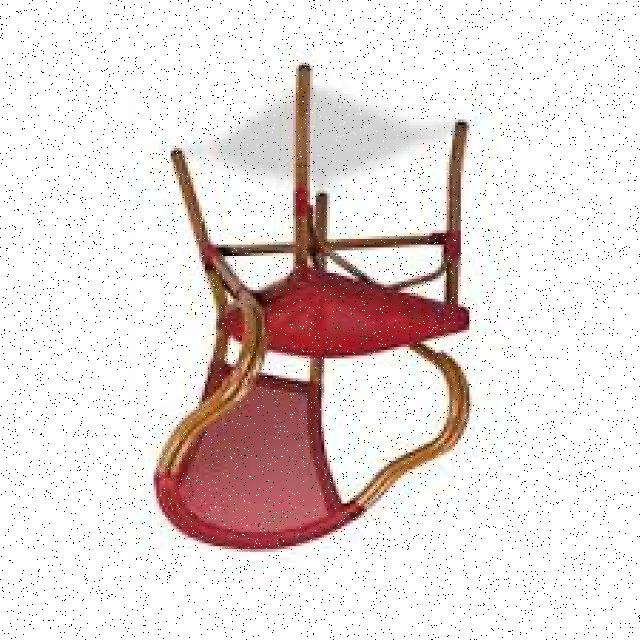bottle: (145, 62, 468, 553)
